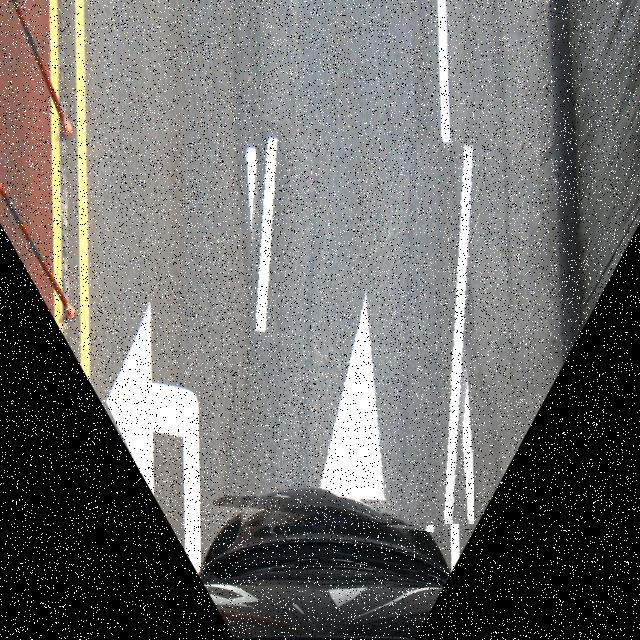forward: (224, 127, 474, 526)
